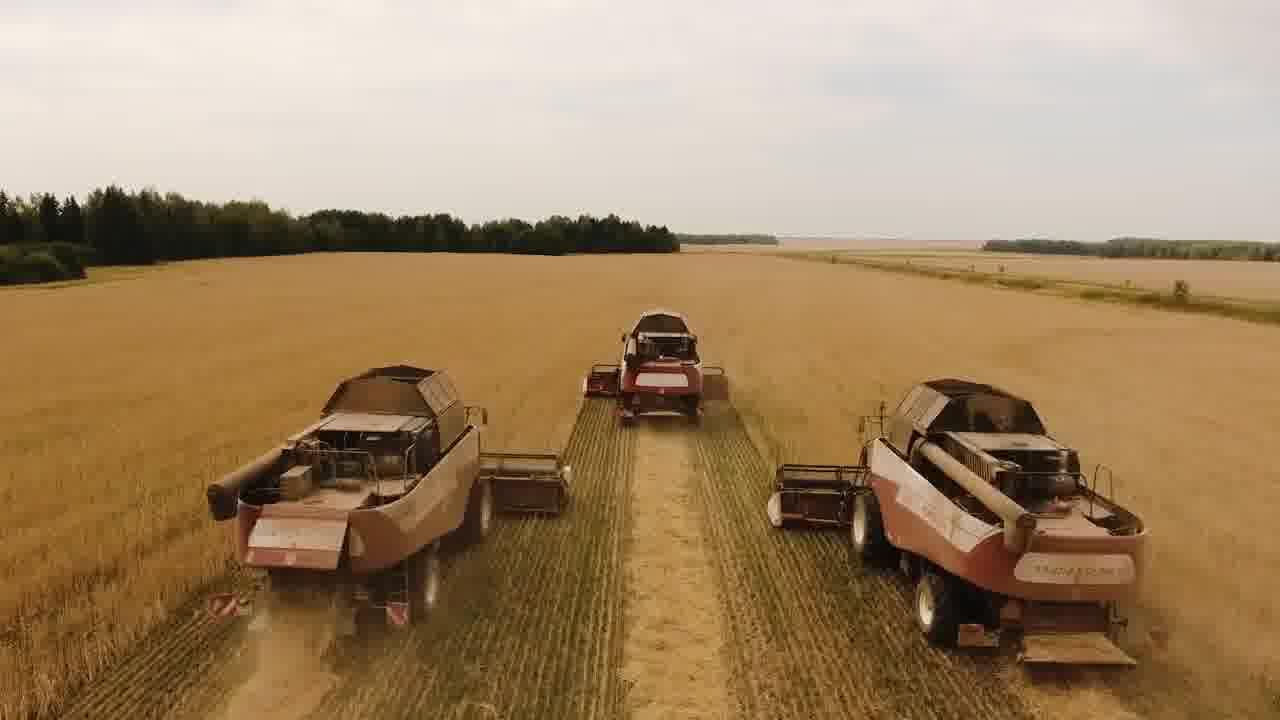combine harvester: (764, 373, 1151, 679), (200, 357, 574, 644), (579, 303, 733, 431)
